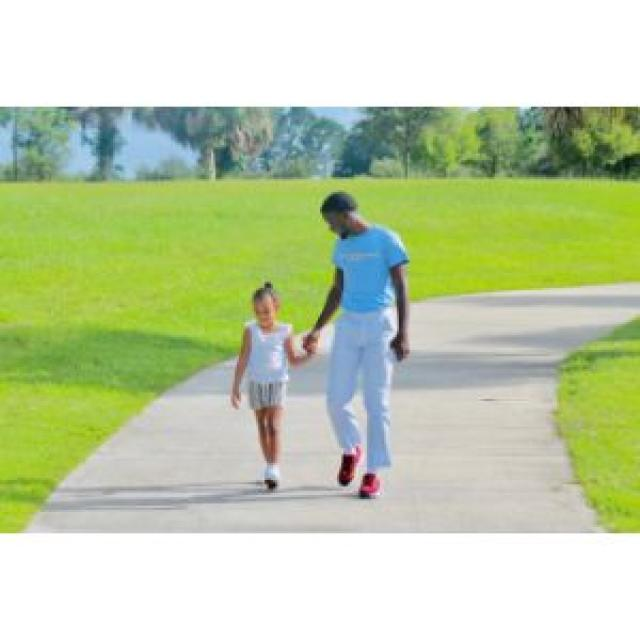nonfall: (299, 187, 415, 502), (216, 282, 302, 488)
